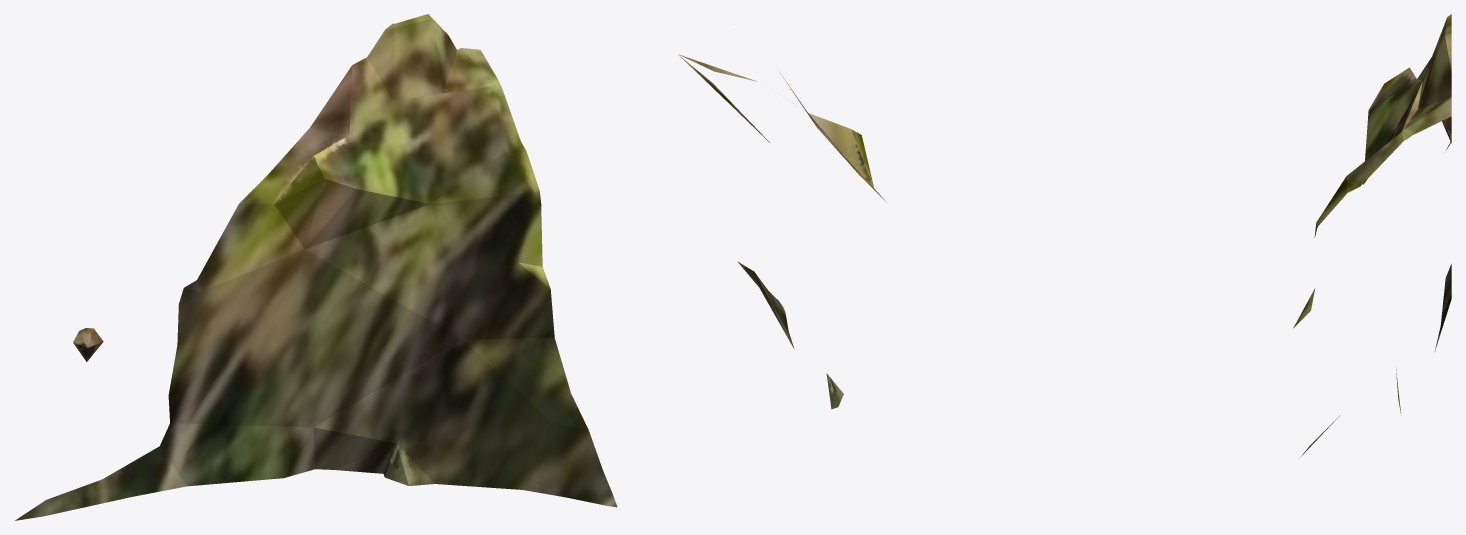
The picture shows the model from 3 angles, left to right: view 1: azimuth 30°, elevation 25°; view 2: azimuth 150°, elevation 25°; view 3: azimuth 270°, elevation 25°; orthographic projection. The views are drawn at different scales.
Bounding box in the file's own units: 0.6179 × 0.5143 × 0.3145.
1 material, 1 textured.
